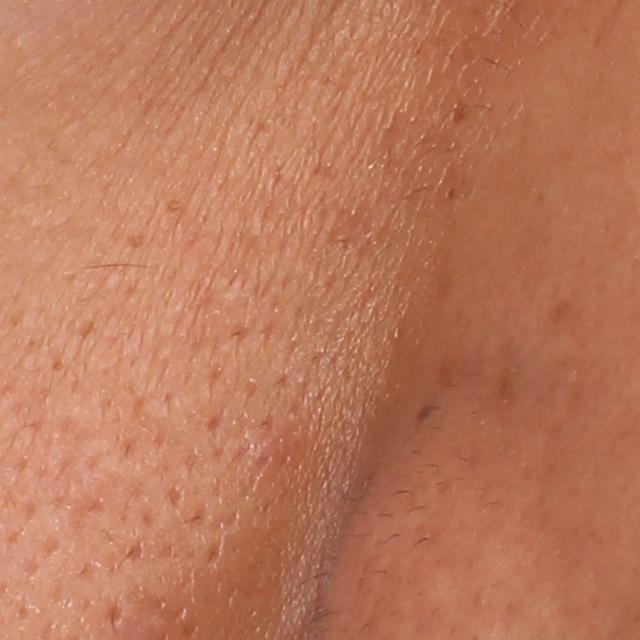comedo: (442, 184, 459, 204)
nevus: (414, 396, 430, 425)
